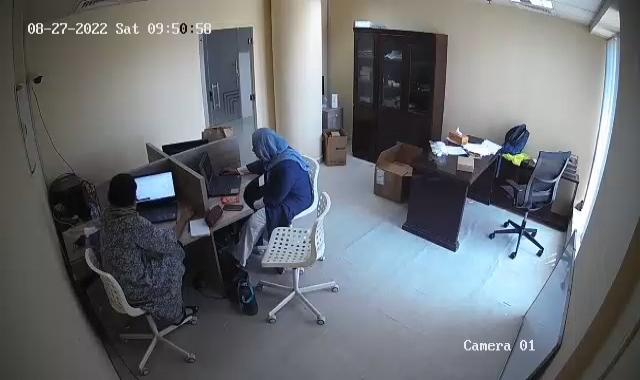no_hairnet: (102, 173, 139, 209), (249, 128, 284, 164)
